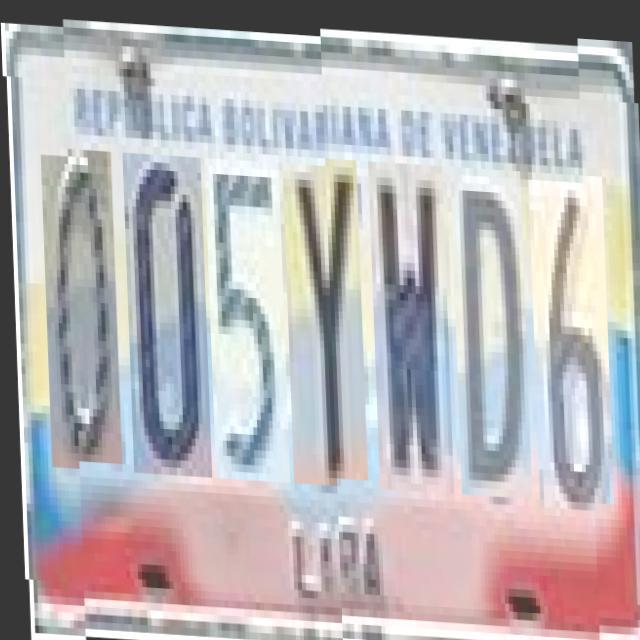0: (121, 143, 208, 467)
5: (203, 148, 286, 472)
6: (527, 172, 611, 503)
D: (449, 168, 528, 492)
O: (39, 139, 118, 455)
W: (367, 157, 451, 488)
Y: (281, 152, 364, 476)
